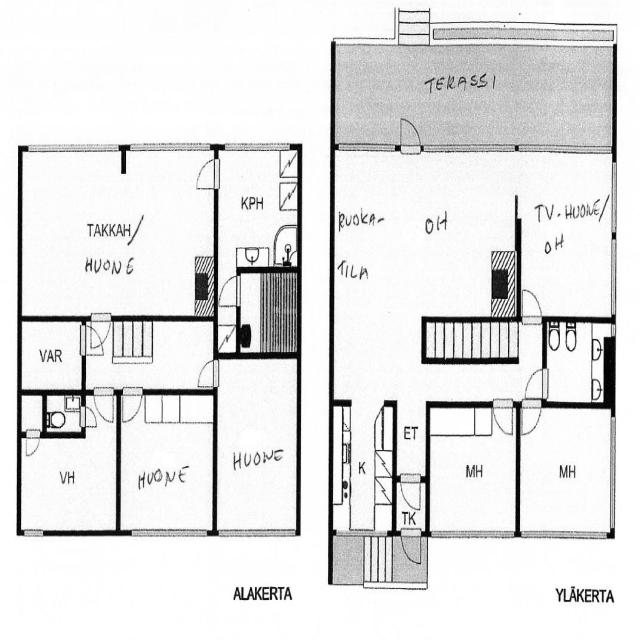door: (90, 386, 118, 428), (213, 275, 247, 308), (520, 368, 550, 403), (194, 152, 222, 189), (88, 316, 114, 354), (400, 476, 424, 517), (522, 285, 544, 326), (120, 389, 143, 426), (397, 120, 420, 153), (494, 399, 513, 438), (522, 402, 543, 437), (402, 530, 421, 568), (82, 329, 105, 359), (196, 360, 220, 385), (26, 432, 40, 462), (80, 406, 96, 430)
window: (418, 136, 614, 155), (426, 524, 516, 543), (518, 524, 606, 541), (28, 142, 120, 156), (218, 525, 298, 541), (610, 154, 618, 313), (129, 527, 213, 542), (132, 142, 216, 156), (225, 141, 290, 153), (334, 140, 396, 152), (331, 530, 390, 539), (610, 414, 614, 529), (23, 530, 45, 539)
zone: (22, 148, 216, 320), (328, 147, 515, 322), (516, 142, 614, 318), (210, 354, 298, 538), (116, 388, 213, 532), (425, 408, 519, 535), (80, 318, 214, 394), (19, 432, 118, 531), (220, 146, 296, 269), (330, 402, 390, 535), (550, 319, 610, 402), (16, 323, 85, 394), (238, 271, 296, 353)
